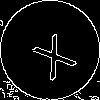X: (25, 25, 78, 81)
